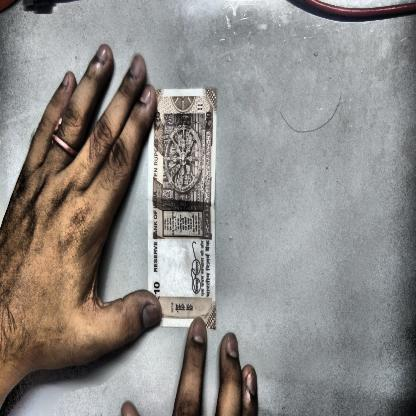Rs10: (153, 279, 161, 304)
